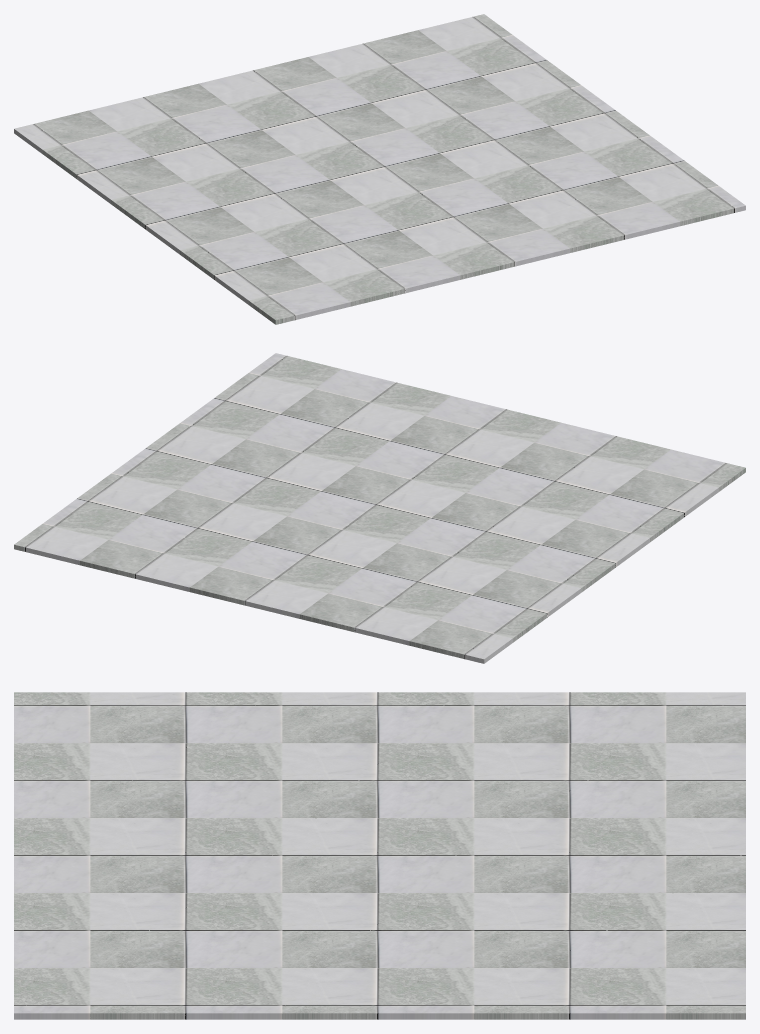
The picture shows the model from 3 angles, top to bottom: view 1: azimuth 30°, elevation 25°; view 2: azimuth 150°, elevation 25°; view 3: azimuth 270°, elevation 25°; orthographic projection. The views are drawn at different scales.
Visible parts, largest first — view 1: Cube.001; view 2: Cube.001; view 3: Cube.001.
Boxes of the visible parts, box(x1,y1,x2,y2) form: Cube.001: box(14, 14, 745, 324); Cube.001: box(14, 353, 745, 663); Cube.001: box(14, 692, 745, 1019).
Size of the model in its own units: 1057 by 10.2 by 1096.
Materials: 1 (1 with a texture image).
